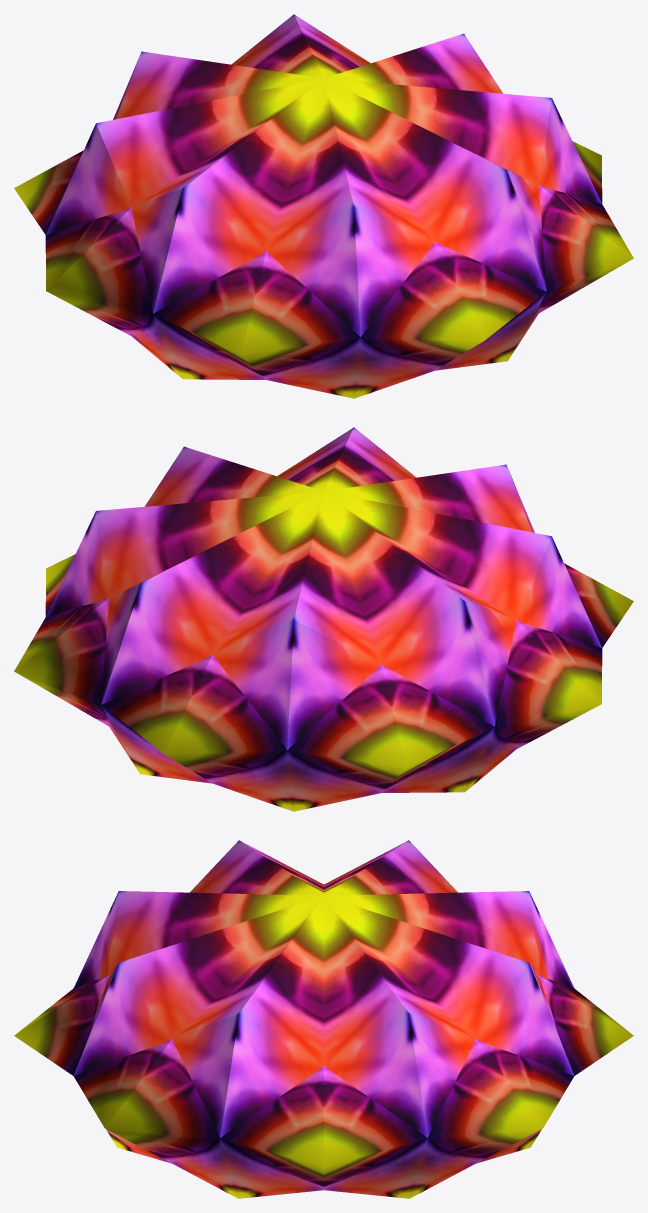
File: ufo-08.fbx
3 views of the same model, one above another, from view 1: azimuth 30°, elevation 25°; view 2: azimuth 150°, elevation 25°; view 3: azimuth 270°, elevation 25° (orthographic). The views are drawn at different scales.
Visible parts, largest first — view 1: ufo-08; view 2: ufo-08; view 3: ufo-08.
Boxes of the visible parts, x1,y1,x2,y2 form: ufo-08: [14, 14, 633, 398]; ufo-08: [14, 427, 633, 811]; ufo-08: [14, 840, 633, 1198].
Bounding box in the file's own units: 56.54 × 26.03 × 56.54.
